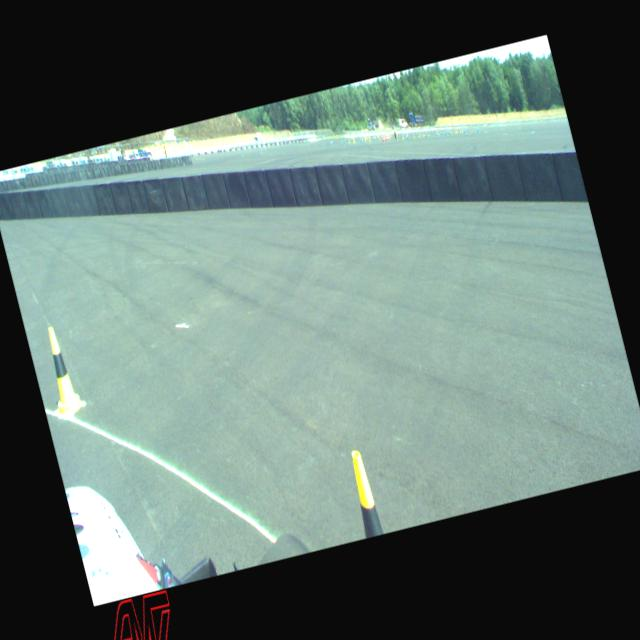yellow_cone: (337, 446, 392, 540), (37, 323, 87, 419)
